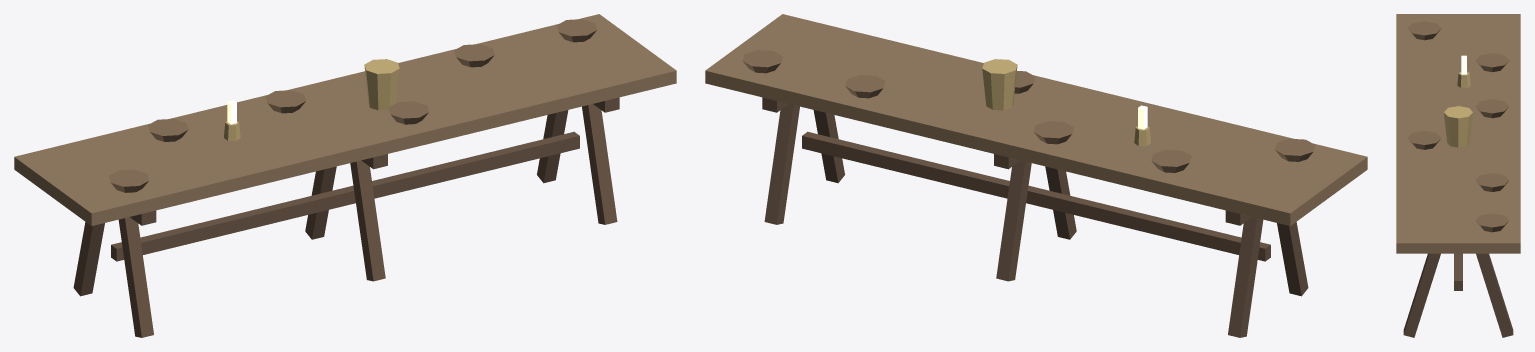
The model's file is table_long.glb.
3 renders of one model, left to right at view 1: azimuth 30°, elevation 25°; view 2: azimuth 150°, elevation 25°; view 3: azimuth 270°, elevation 25°, orthographic. The views are drawn at different scales.
Visible parts, largest first — view 1: table_long; view 2: table_long; view 3: table_long.
Boxes of the visible parts, x1,y1,x2,y2 form: table_long: (14, 14, 676, 337); table_long: (705, 14, 1367, 337); table_long: (1396, 14, 1520, 337).
Bounding box in the file's own units: 4.8 × 1.43 × 1.1.
